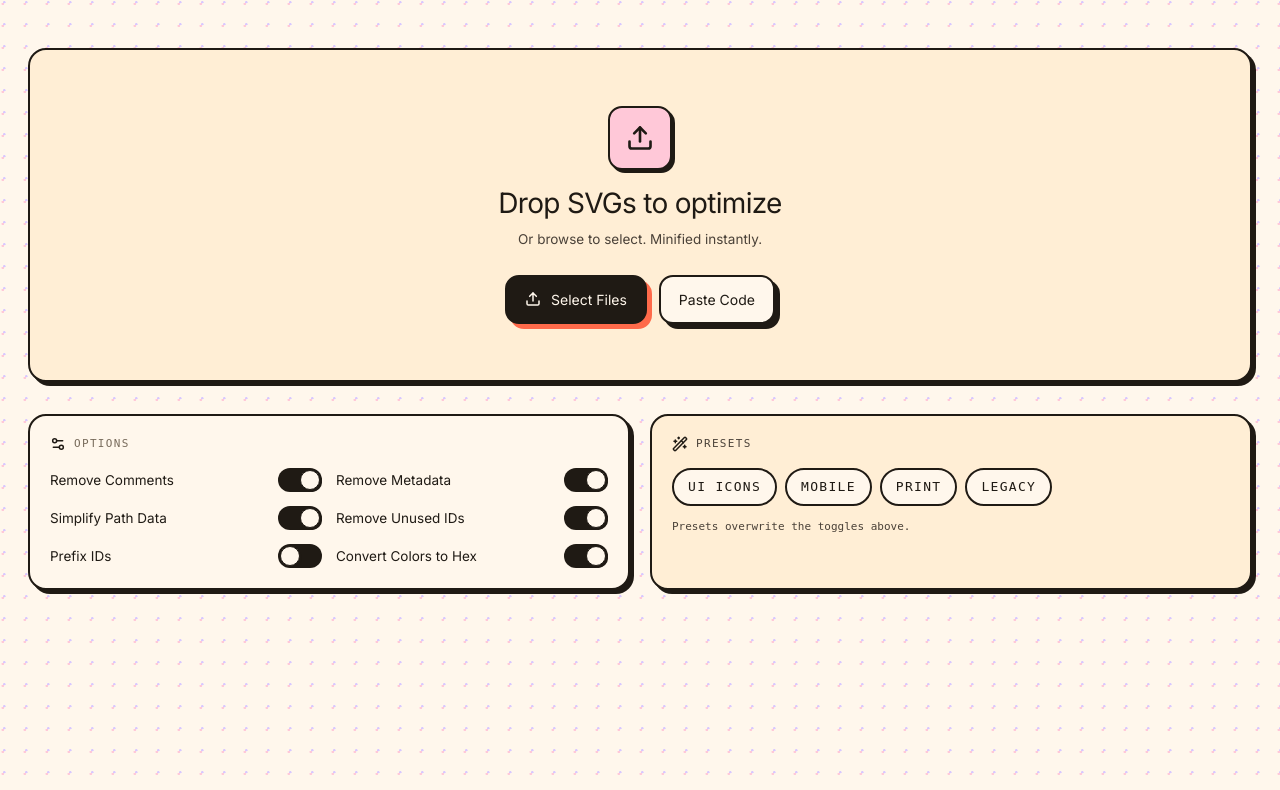
Test: SvgOptimizerRoute › shows error for invalid pasted content
Step 1. Click the button "Paste Code" → coordinates (717, 299), box [659,275,775,324]
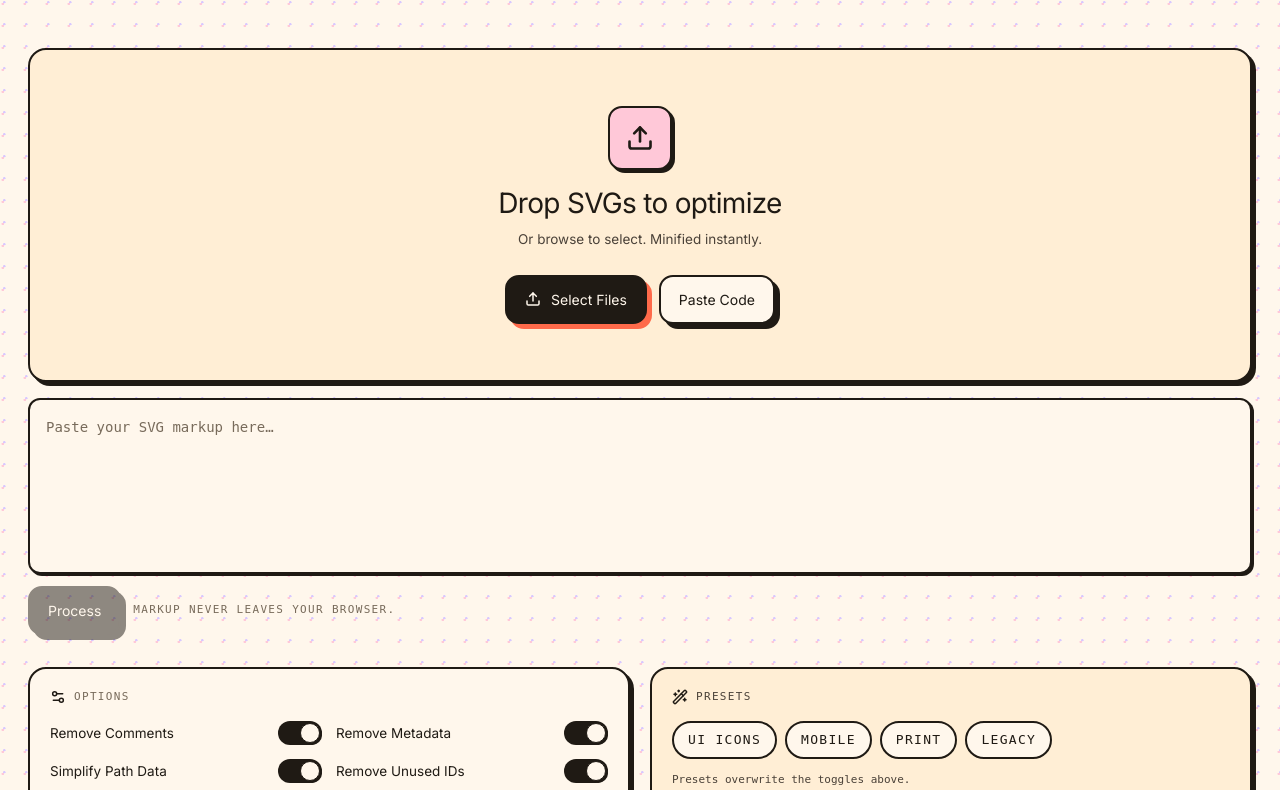
Step 2. Type "<div>not svg</div>" into the text box with test id "paste-textarea" → coordinates (640, 486), box [28,398,1252,574]
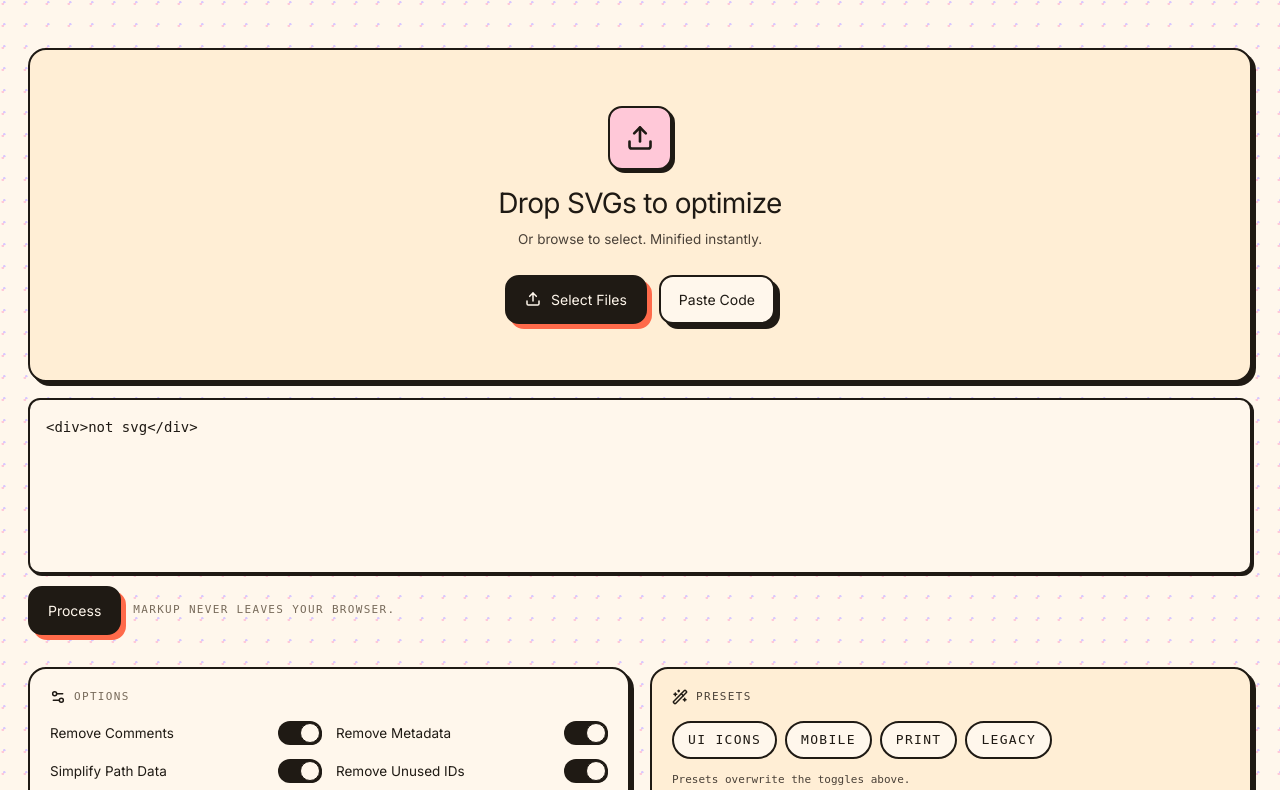
Step 3. Click the button "Process" → coordinates (75, 610), box [28,586,121,635]
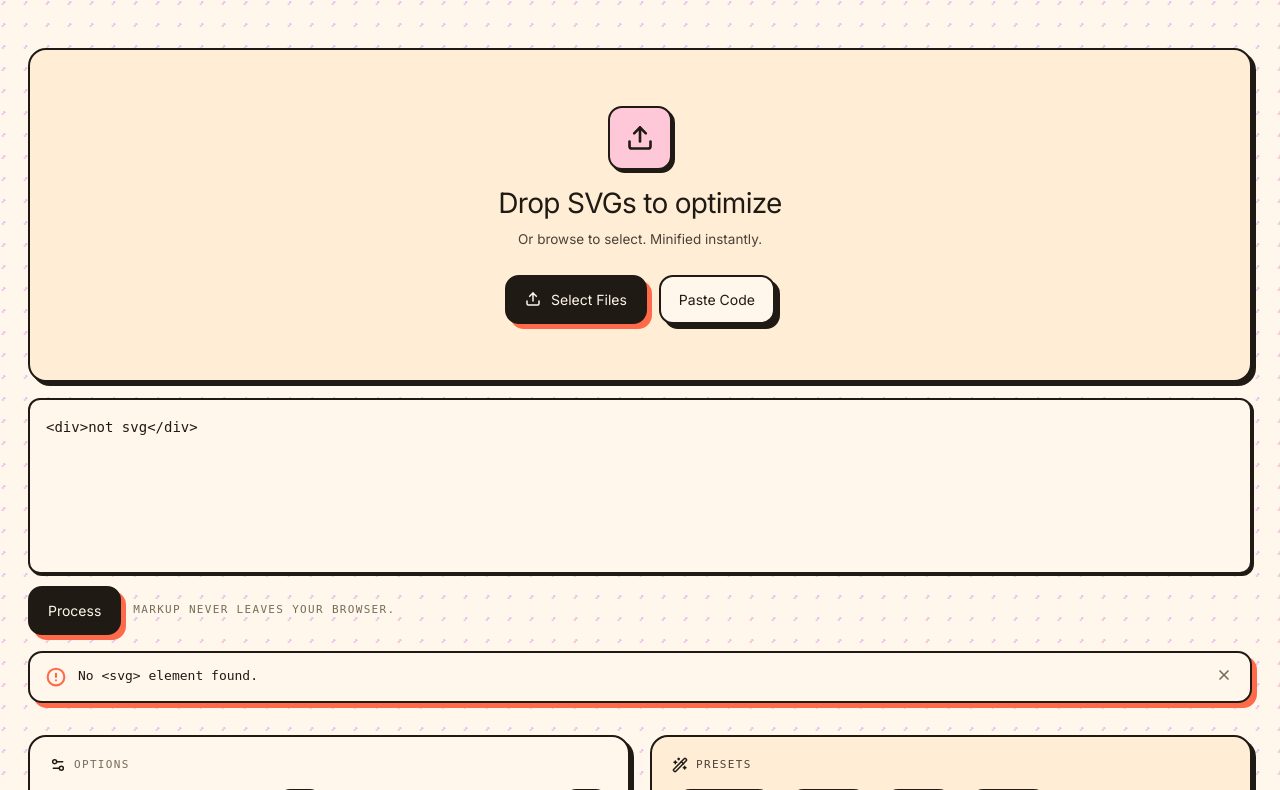
expect the text "No <svg> element found." is shown: met, box [78,668,258,683]
